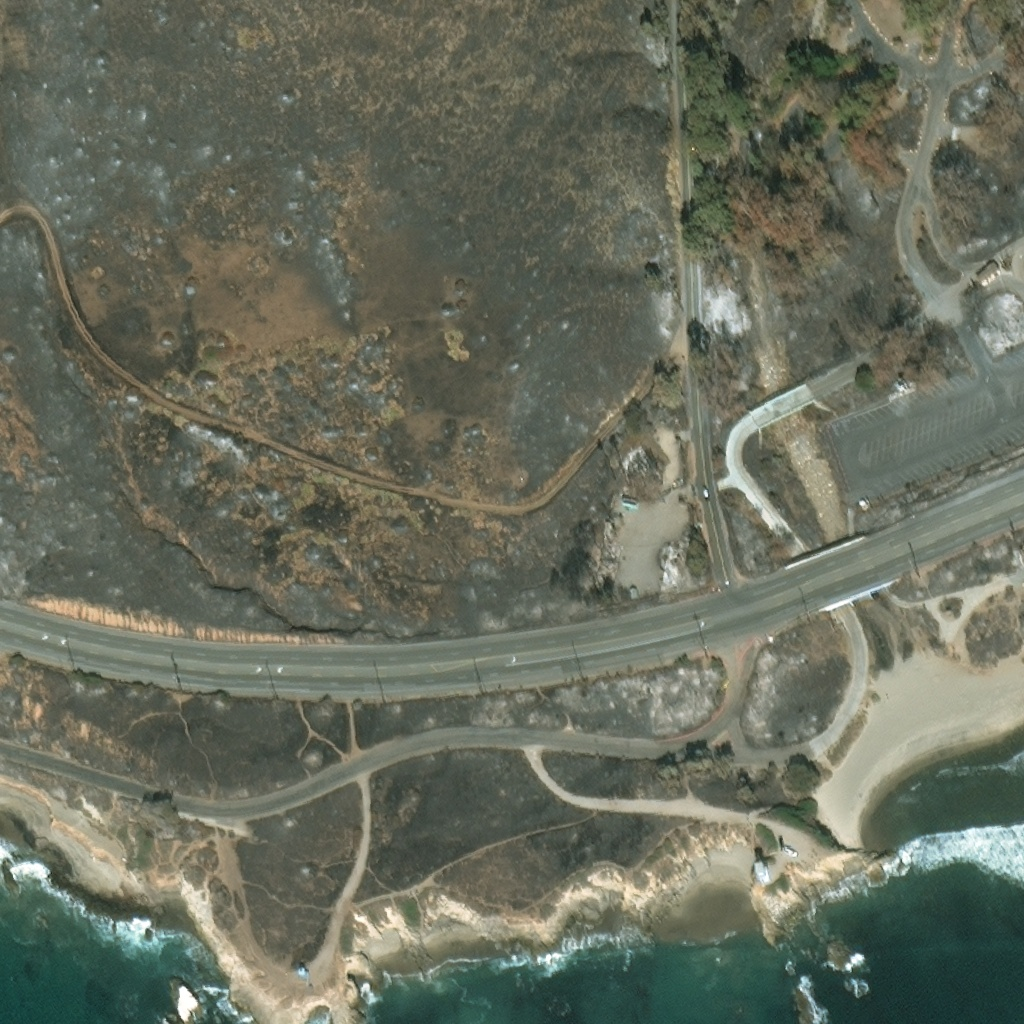0 no-damage: (754, 865, 768, 885)
3 destroyed: (588, 539, 617, 580), (657, 541, 681, 589), (620, 444, 650, 476), (972, 262, 997, 286), (887, 376, 908, 394), (1014, 545, 1023, 566), (295, 967, 305, 978)
